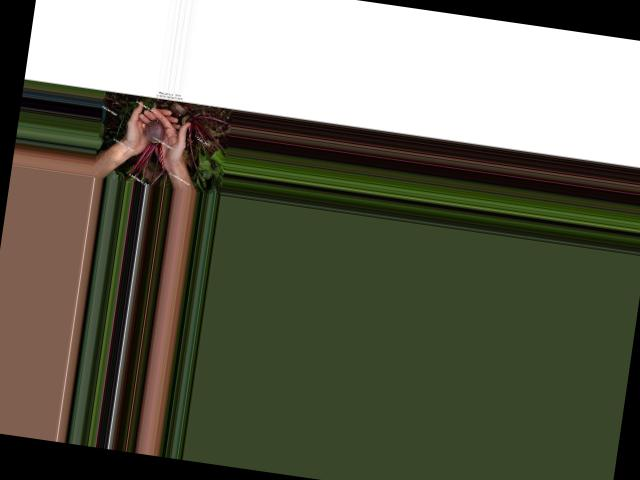beet: (124, 115, 173, 185)
